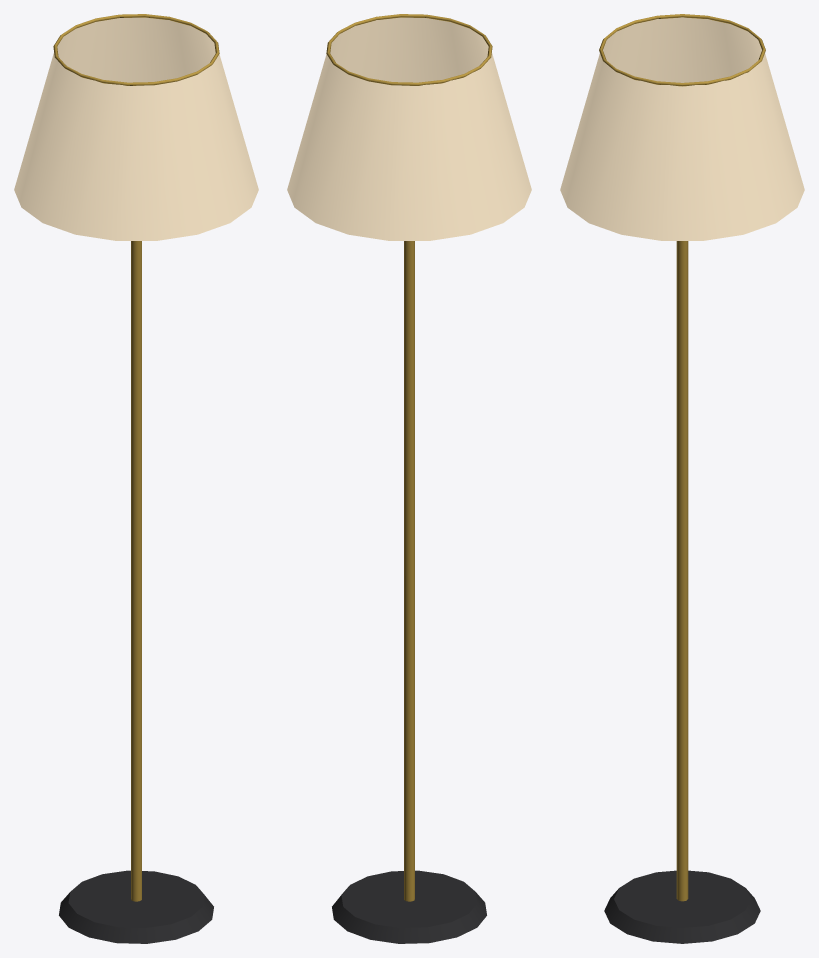
The model's file is lamp-standing.glb.
3 renders of one model, left to right at view 1: azimuth 30°, elevation 25°; view 2: azimuth 150°, elevation 25°; view 3: azimuth 270°, elevation 25°, orthographic.
Parts seen in each view (by area): view 1: lamp-standing; view 2: lamp-standing; view 3: lamp-standing.
Boxes of the visible parts, x1,y1,x2,y2 form: lamp-standing: [14, 14, 258, 943]; lamp-standing: [287, 14, 531, 943]; lamp-standing: [560, 14, 804, 943].
Bounding box in the file's own units: 1.48 × 5.83 × 1.5.
